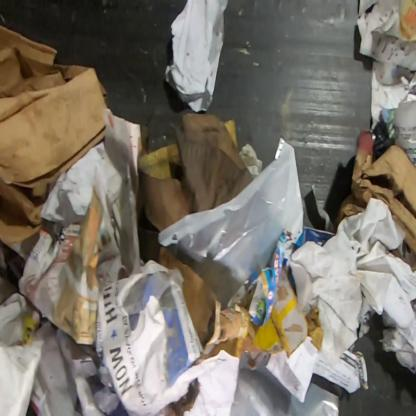cardboard: (332, 129, 415, 257), (251, 268, 309, 358)
soft_plastic: (157, 135, 304, 283), (231, 368, 340, 415)
